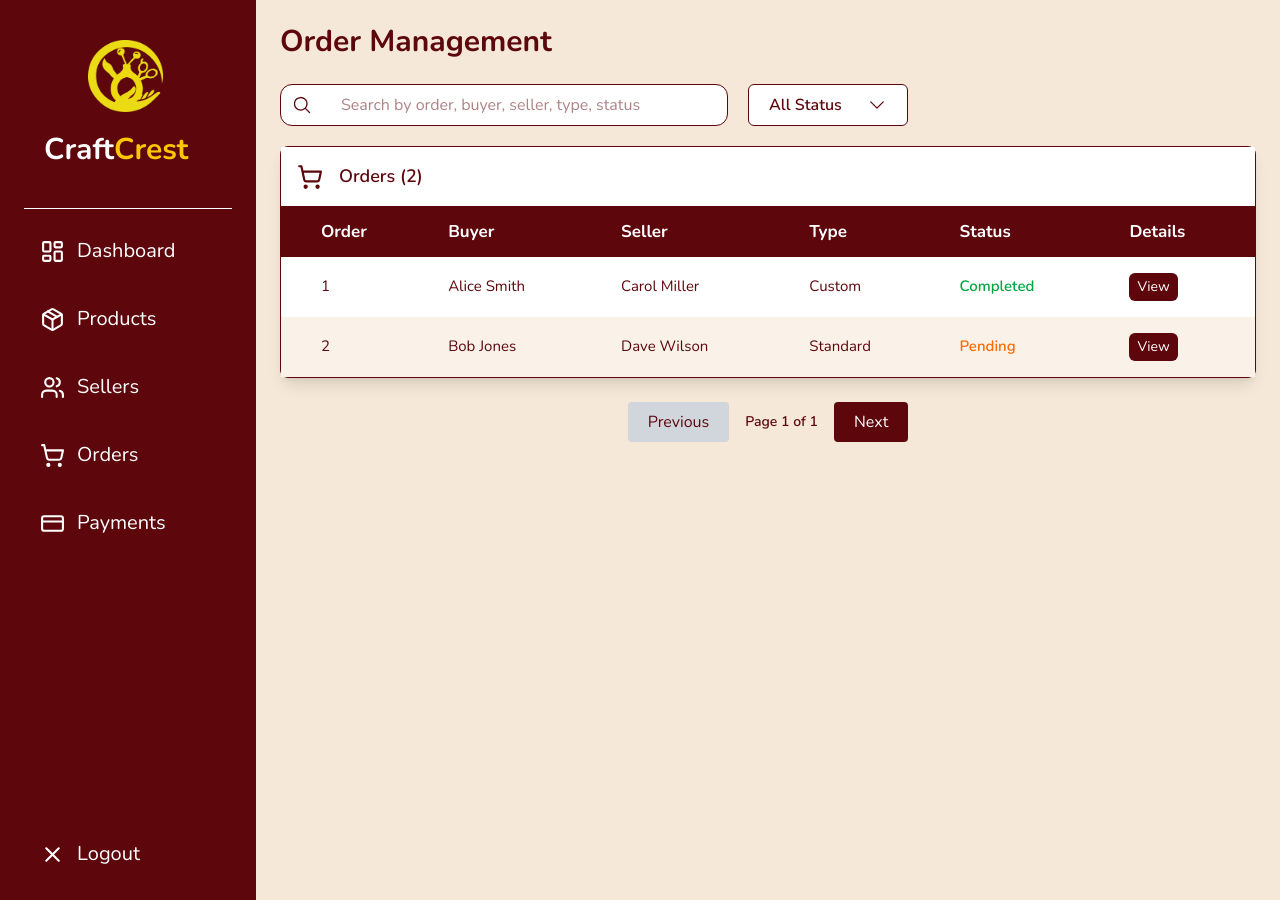
OrdersPage › filters orders by search query matching order id
Type "1" into the field with placeholder "Search by order, buyer, seller, type, status". click: (504, 105)
box: [280,84,728,126]
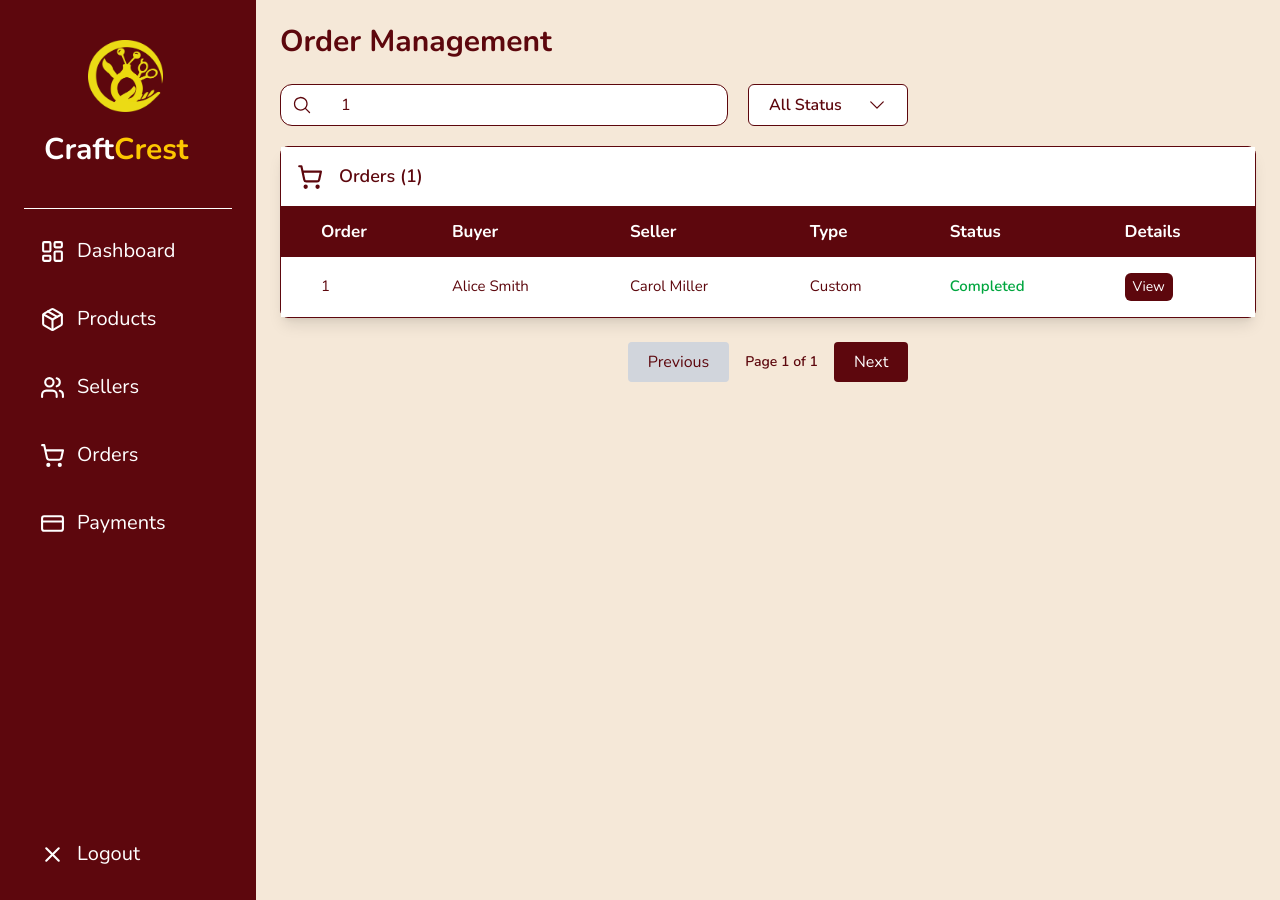
Expected: the text "Alice Smith" is shown, [412,256,590,316]
Result: the text "Bob Jones" is gone
